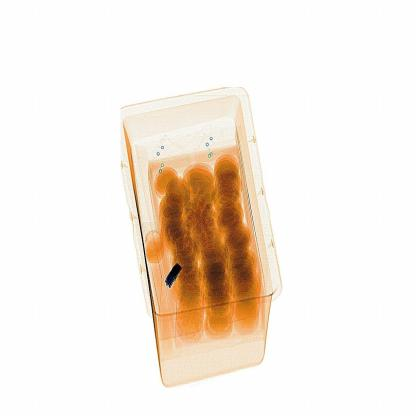scissors: (161, 241, 196, 297)
